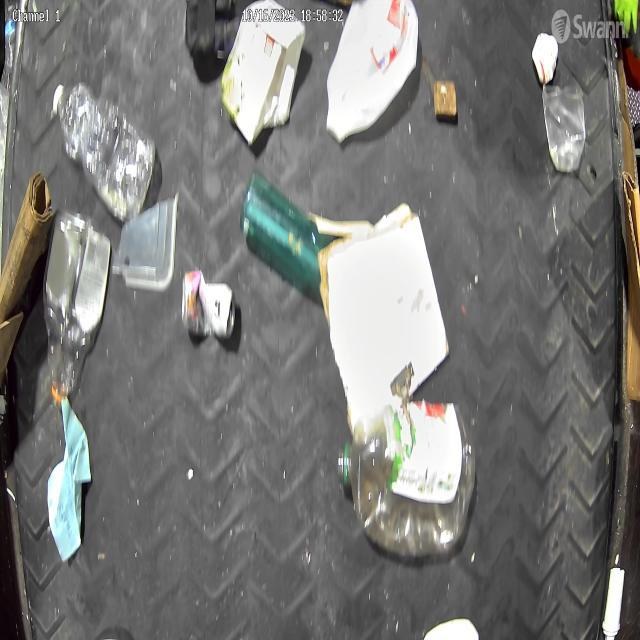can: (180, 270, 236, 338)
milk_jug: (326, 0, 420, 141)
plastic_bottle: (336, 401, 476, 560), (54, 80, 158, 222), (44, 210, 111, 404)
